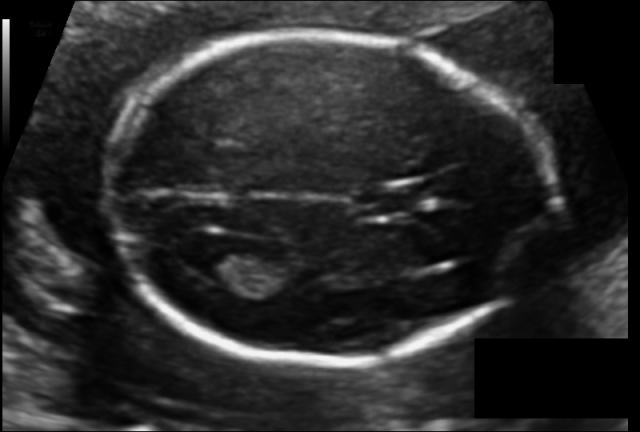CHOROID_PLEXUS: (195, 243, 319, 316)
CSP: (390, 157, 480, 238)
MIDLINE_FALX: (71, 140, 551, 240)
